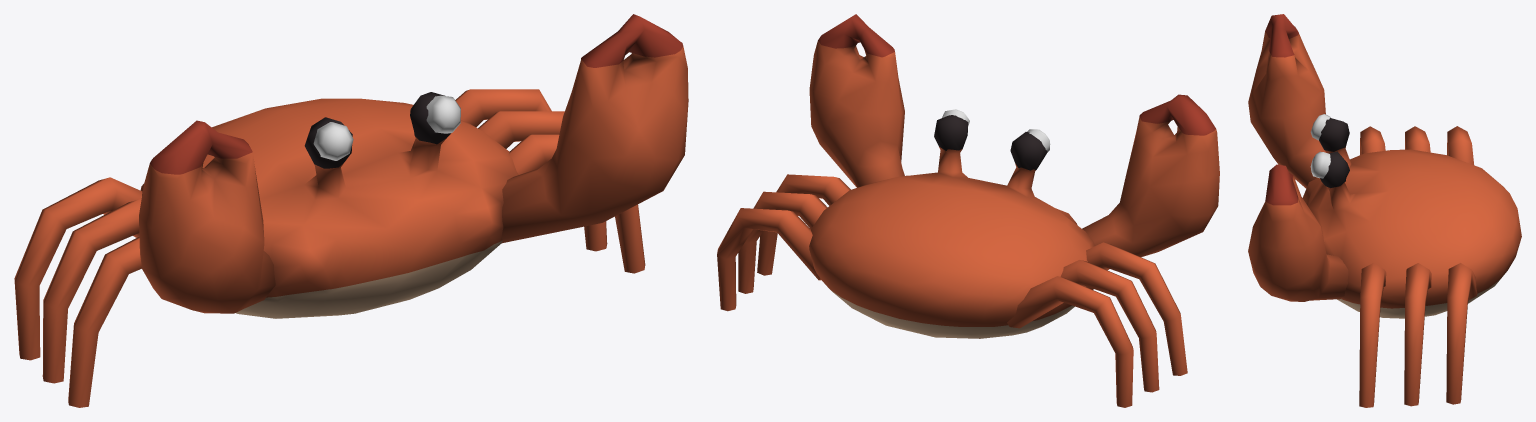
The model's file is Crab.fbx.
3 views of the same model, side by side, from view 1: azimuth 30°, elevation 25°; view 2: azimuth 150°, elevation 25°; view 3: azimuth 270°, elevation 25° (orthographic). The views are drawn at different scales.
Visible parts, largest first — view 1: Body, ClawL, ClawR; view 2: Body, ClawR, ClawL; view 3: Body, ClawR, ClawL.
Boxes of the visible parts, left/top/right/bottom form: Body: left=14, top=89, right=645, bottom=407; ClawL: left=501, top=14, right=688, bottom=243; ClawR: left=139, top=120, right=275, bottom=313; Body: left=717, top=109, right=1187, bottom=407; ClawR: left=1082, top=94, right=1219, bottom=257; ClawL: left=809, top=14, right=904, bottom=187; Body: left=1302, top=114, right=1521, bottom=407; ClawR: left=1248, top=14, right=1326, bottom=188; ClawL: left=1248, top=164, right=1348, bottom=301.
Bounding box in the file's own units: 0.3563 × 0.1855 × 0.2075.
